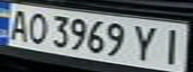3: (45, 12, 72, 50)
6: (84, 18, 109, 55)
9: (103, 20, 130, 58), (66, 16, 87, 52)
A: (3, 7, 33, 42)
I: (154, 25, 190, 65)
O: (24, 10, 51, 45)
Y: (130, 21, 163, 62)
